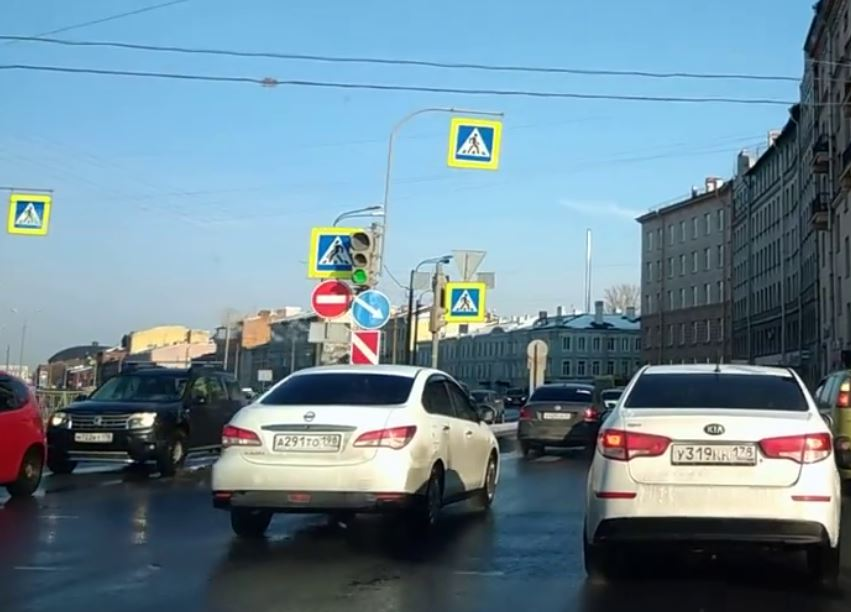Sagdan Git: (353, 287, 395, 330)
Yaya Gecidi: (316, 236, 356, 269), (459, 126, 493, 160), (452, 287, 484, 317), (14, 203, 43, 228)
